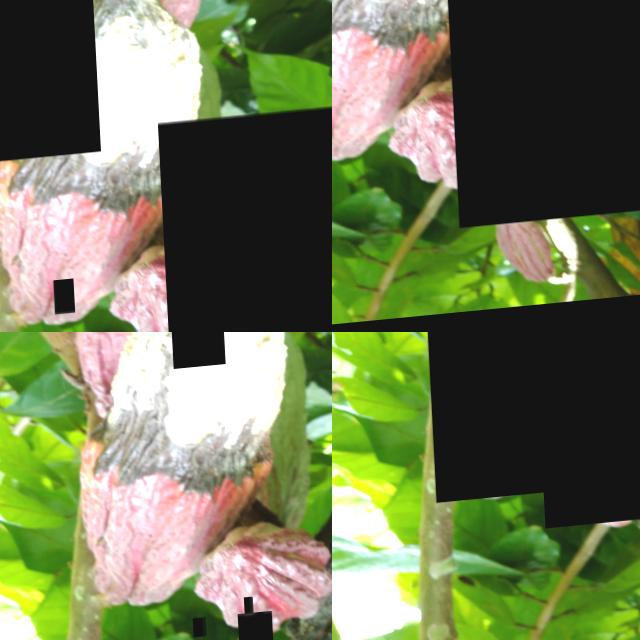Monilia: (439, 0, 640, 234), (417, 332, 640, 505)
Sana: (154, 114, 332, 332), (0, 0, 97, 166), (535, 418, 640, 533), (166, 332, 222, 373), (232, 617, 268, 640), (49, 283, 70, 318), (187, 622, 200, 640), (239, 603, 248, 621)
